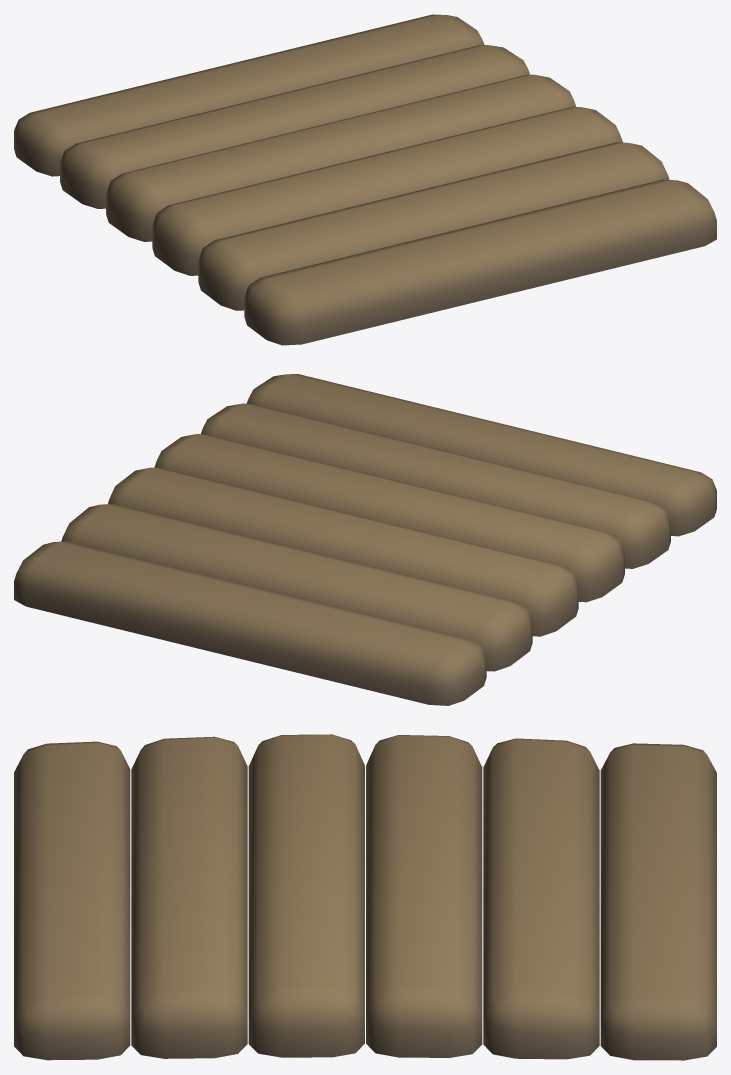
Rendered from SM_Crop_Empty.fbx.
The picture shows the model from 3 angles, top to bottom: view 1: azimuth 30°, elevation 25°; view 2: azimuth 150°, elevation 25°; view 3: azimuth 270°, elevation 25°; orthographic projection. The views are drawn at different scales.
Parts seen in each view (by area): view 1: SM_Crop_Empty; view 2: SM_Crop_Empty; view 3: SM_Crop_Empty.
Boxes of the visible parts, bbox=[...] form: SM_Crop_Empty: bbox=[14, 14, 716, 345]; SM_Crop_Empty: bbox=[14, 374, 716, 705]; SM_Crop_Empty: bbox=[14, 734, 716, 1060].
Size of the model in its own units: 309 by 31.64 by 330.
